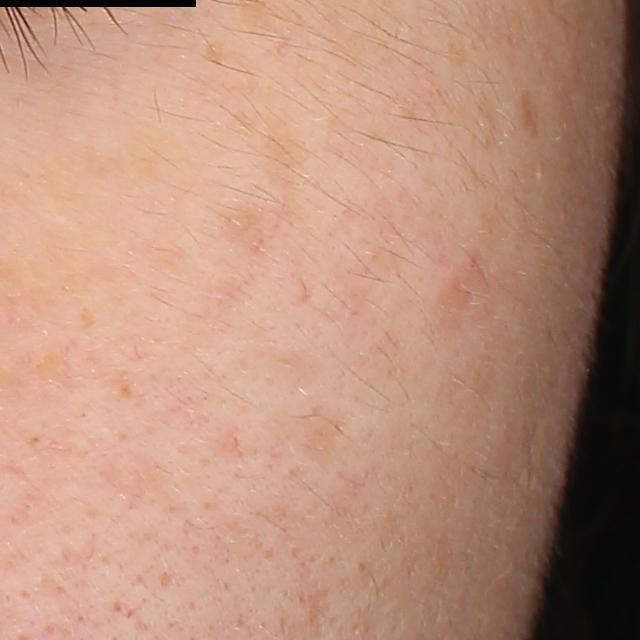melasma: (264, 122, 308, 181), (520, 87, 542, 136)
